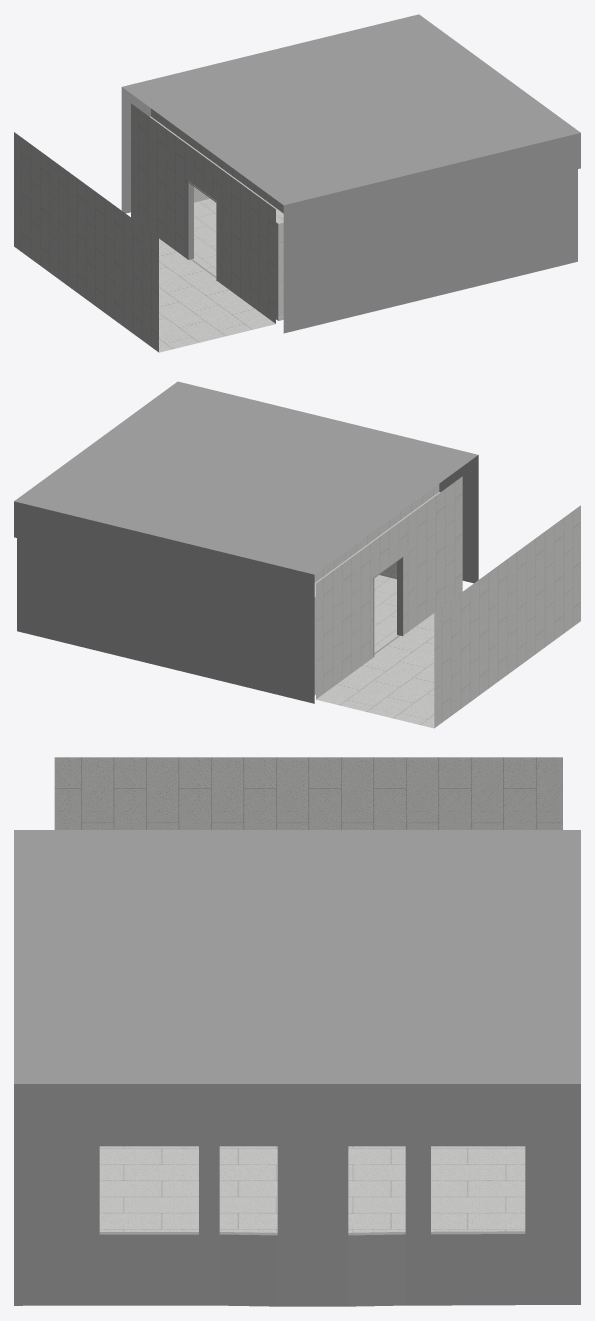
Rendered from base_hospital.fbx.
3 views of the same model, one above another, from view 1: azimuth 30°, elevation 25°; view 2: azimuth 150°, elevation 25°; view 3: azimuth 270°, elevation 25° (orthographic). The views are drawn at different scales.
Parts seen in each view (by area): view 1: polySurface25, polySurface34, pCube46; view 2: polySurface25, polySurface34, pCube46; view 3: polySurface25, polySurface34.
Part boxes in pixels (x1,y1,x2,y2): polySurface25: [121, 14, 580, 333]; polySurface34: [14, 103, 283, 352]; pCube46: [187, 181, 216, 280]; polySurface25: [14, 381, 478, 703]; polySurface34: [314, 476, 580, 728]; pCube46: [373, 556, 403, 656]; polySurface25: [14, 830, 580, 1306]; polySurface34: [54, 757, 562, 1232].
Size of the model in its own units: 10.85 by 3.25 by 7.42.
